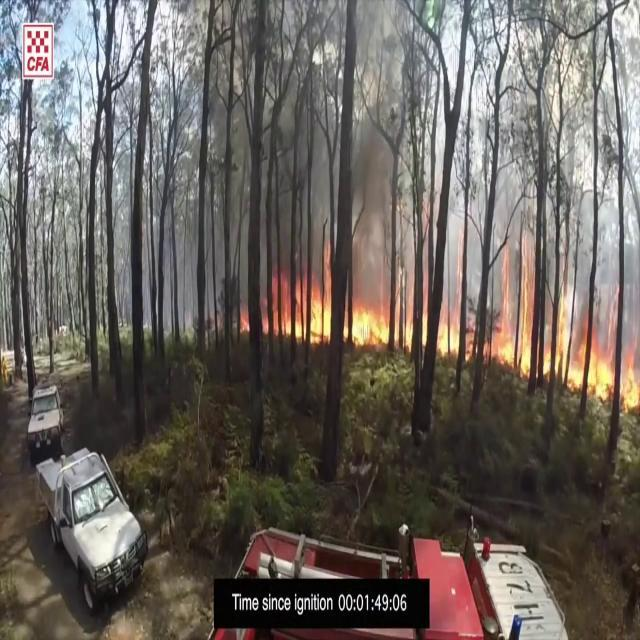Fire: (290, 244, 402, 352), (569, 308, 640, 415), (346, 288, 398, 354)
Smoke: (194, 63, 400, 301)
